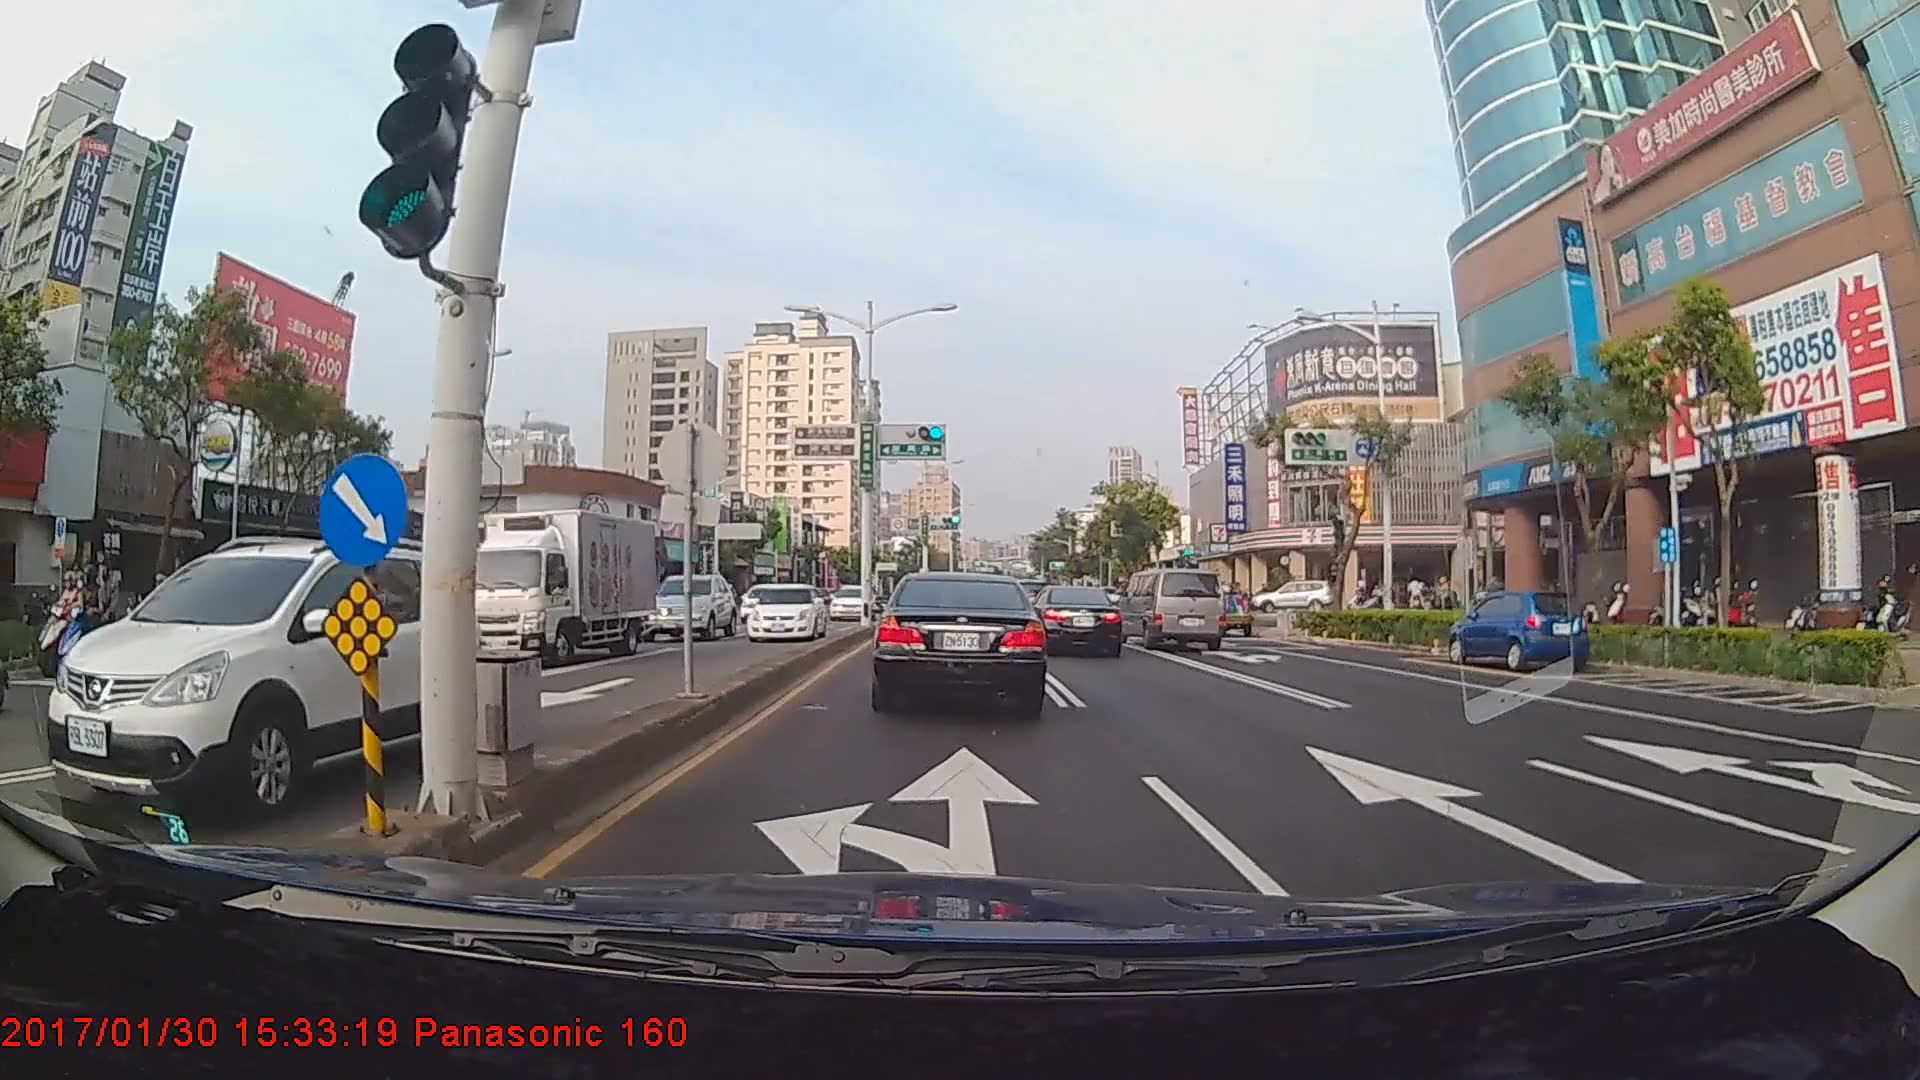vehicle: (61, 524, 491, 828), (462, 504, 655, 665), (874, 568, 1044, 713), (1445, 585, 1590, 673), (1120, 567, 1226, 651), (636, 568, 735, 640), (1029, 585, 1124, 657), (736, 576, 822, 642), (1257, 580, 1332, 615), (738, 582, 789, 620), (825, 578, 868, 620)
